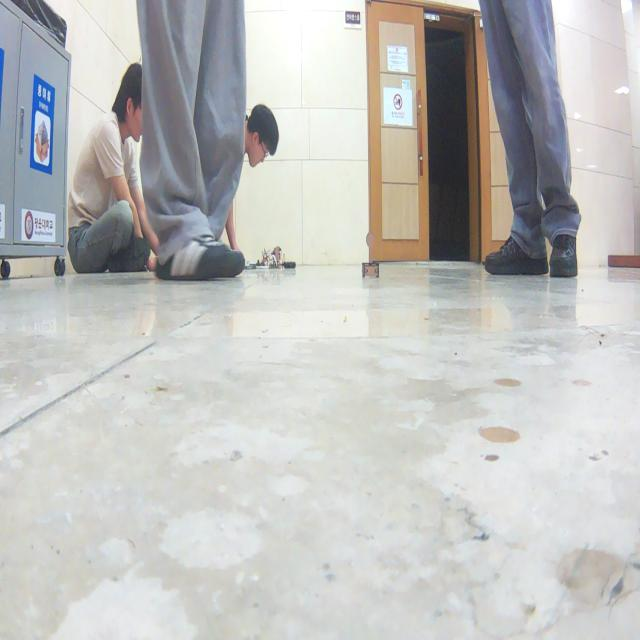target: (361, 232, 380, 278)
